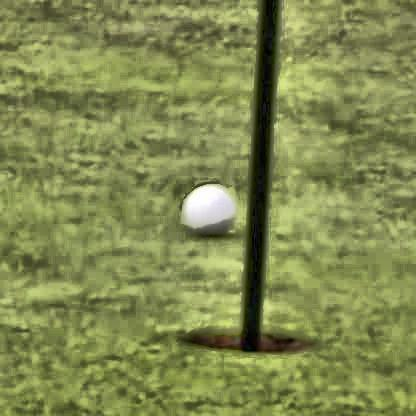golfball: (180, 182, 234, 233)
